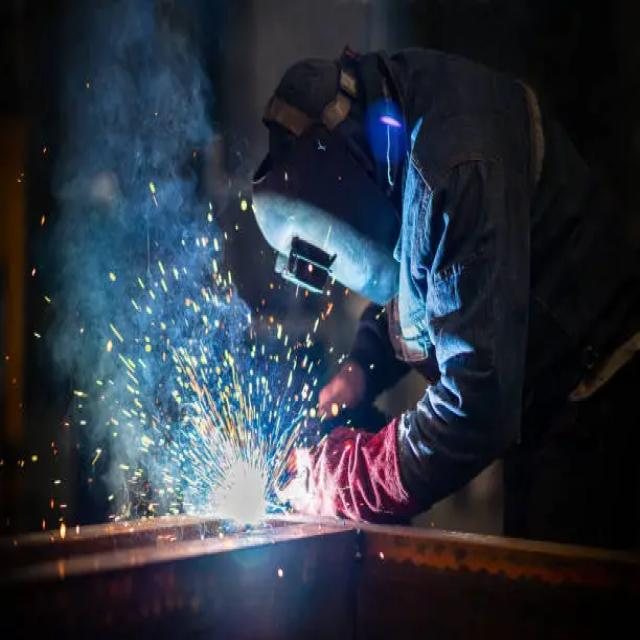with_helmet: (242, 34, 420, 323)
